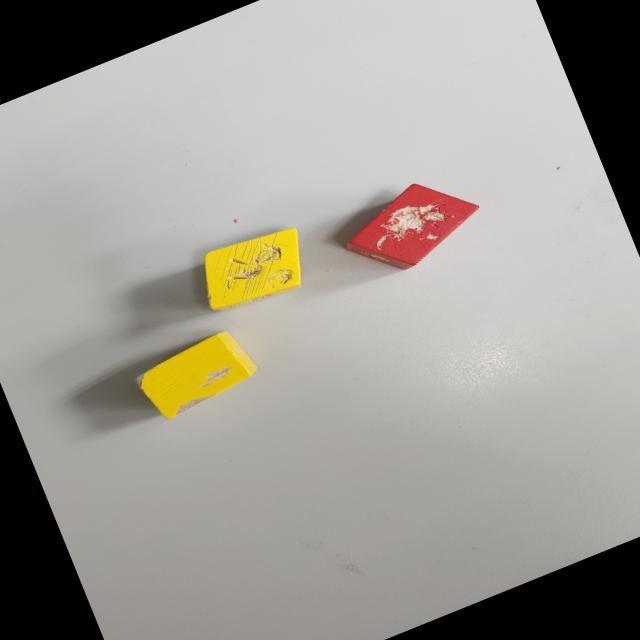broken: (332, 163, 492, 288), (126, 324, 264, 426), (188, 217, 318, 322)
